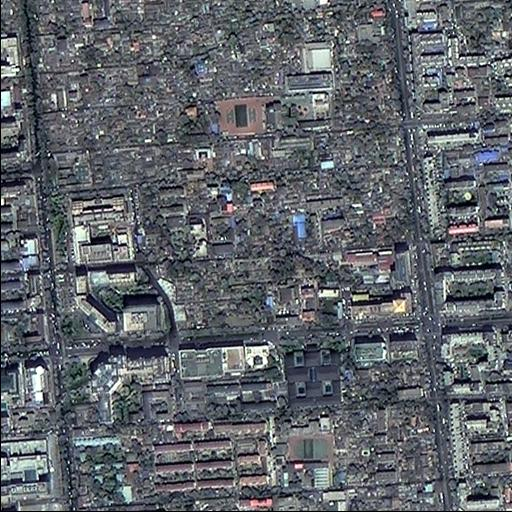school: (210, 37, 349, 148), (273, 416, 336, 490)
